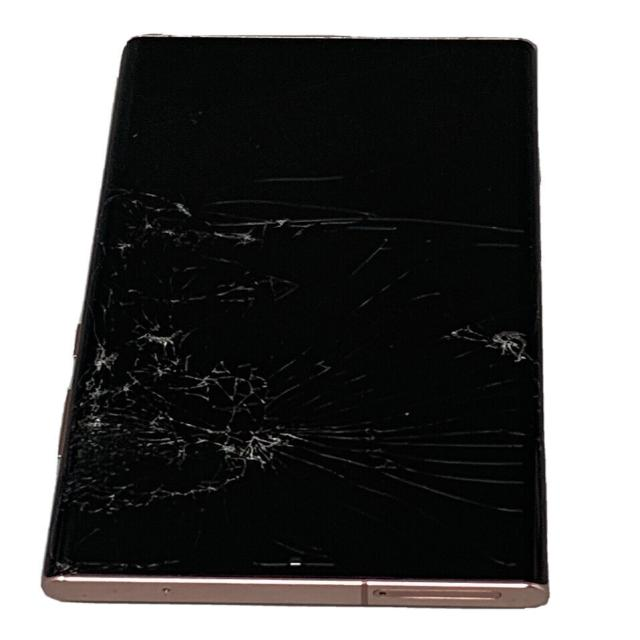Crack: (41, 312, 319, 546), (430, 320, 543, 409)
